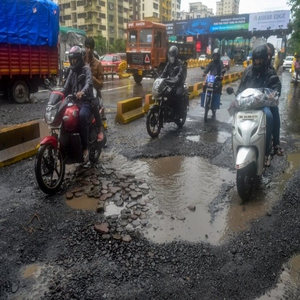pothole: (64, 147, 277, 256), (186, 129, 234, 149)
